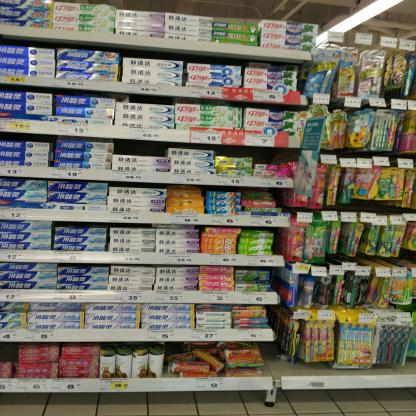Void: (114, 140, 166, 157), (256, 148, 288, 162), (0, 133, 55, 140), (272, 362, 304, 374), (133, 95, 171, 105), (217, 147, 250, 157)
